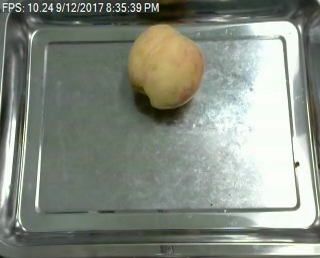Peach: (127, 22, 204, 109)
